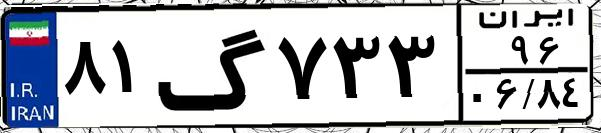0: (470, 70, 495, 125)
1: (110, 28, 156, 98)
3: (385, 28, 445, 110), (330, 28, 385, 110)
4: (560, 70, 590, 125)
6: (537, 27, 568, 80), (495, 70, 520, 125)
7: (270, 28, 330, 110)
8: (57, 26, 110, 100), (535, 70, 560, 125)
9: (508, 27, 537, 80)
گ: (156, 12, 270, 120)
